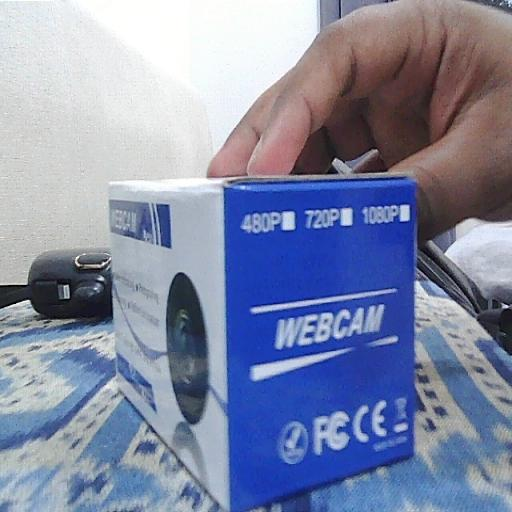webcam_box: (105, 171, 418, 512)
